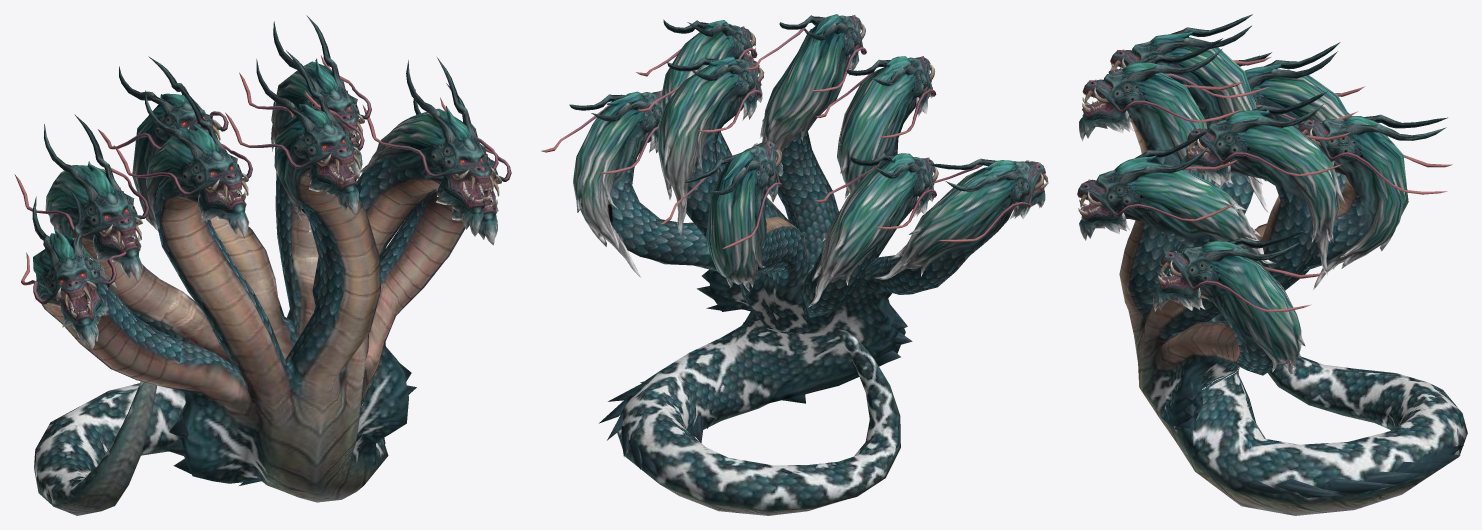
The model's file is 207-titanyamatanoorochi.glb.
3 renders of one model, left to right at view 1: azimuth 30°, elevation 25°; view 2: azimuth 150°, elevation 25°; view 3: azimuth 270°, elevation 25°, orthographic. The views are drawn at different scales.
Size of the model in its own units: 12.95 by 11.62 by 9.63.
Materials: 1 (1 with a texture image).
